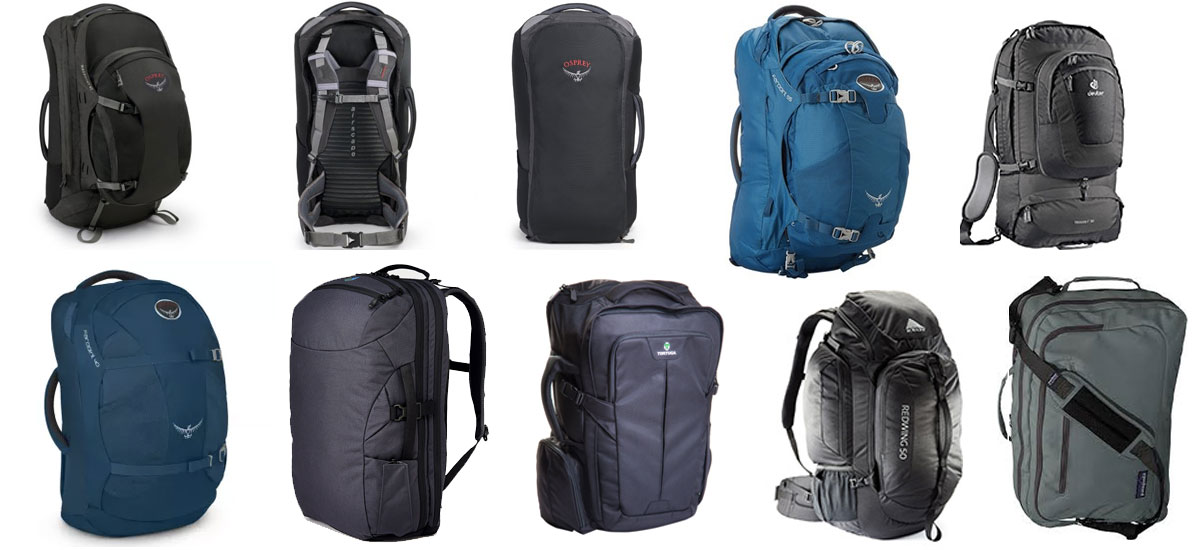backpack: (282, 261, 496, 550), (711, 1, 912, 289), (33, 259, 228, 550), (992, 269, 1190, 541), (525, 269, 722, 542), (778, 280, 965, 550), (29, 1, 200, 251), (505, 1, 667, 259), (964, 17, 1135, 257), (278, 1, 424, 258)
